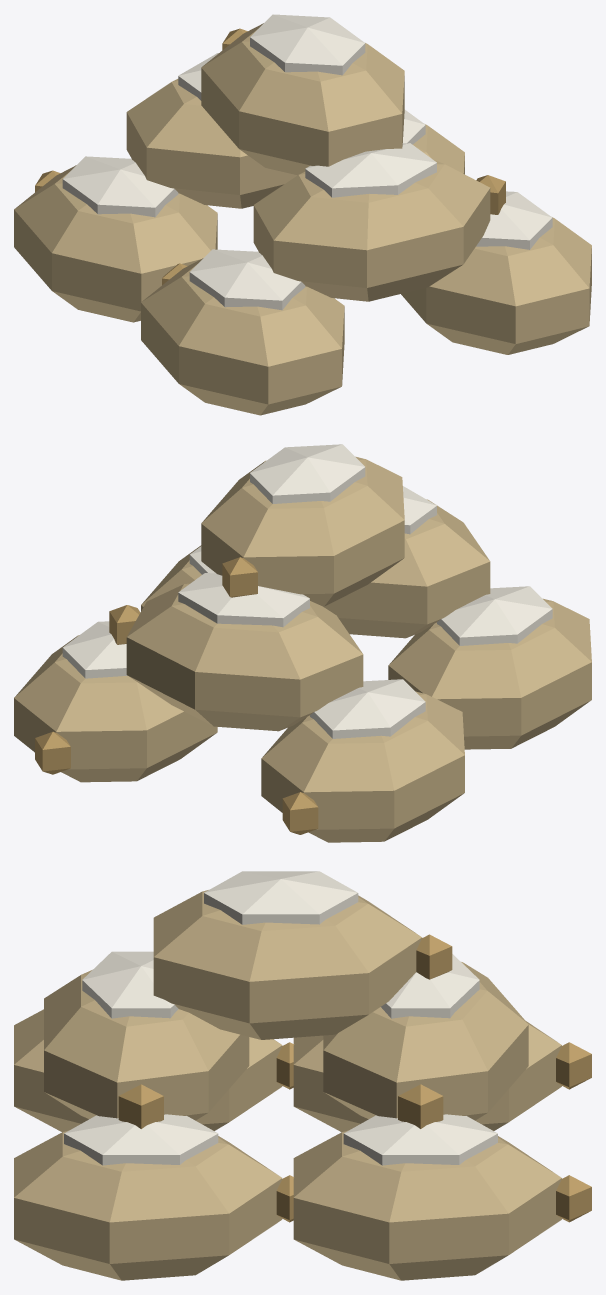
Rendered from pile_flour_3.glb.
The picture shows the model from 3 angles, top to bottom: view 1: azimuth 30°, elevation 25°; view 2: azimuth 150°, elevation 25°; view 3: azimuth 270°, elevation 25°; orthographic projection. The views are drawn at different scales.
Visible parts, largest first — view 1: pile_flour_3; view 2: pile_flour_3; view 3: pile_flour_3.
Part boxes in pixels (bbox=[...]): pile_flour_3: bbox=[14, 14, 591, 415]; pile_flour_3: bbox=[14, 444, 591, 842]; pile_flour_3: bbox=[14, 871, 591, 1280].
Size of the model in its own units: 1.2 by 0.81 by 1.32.
